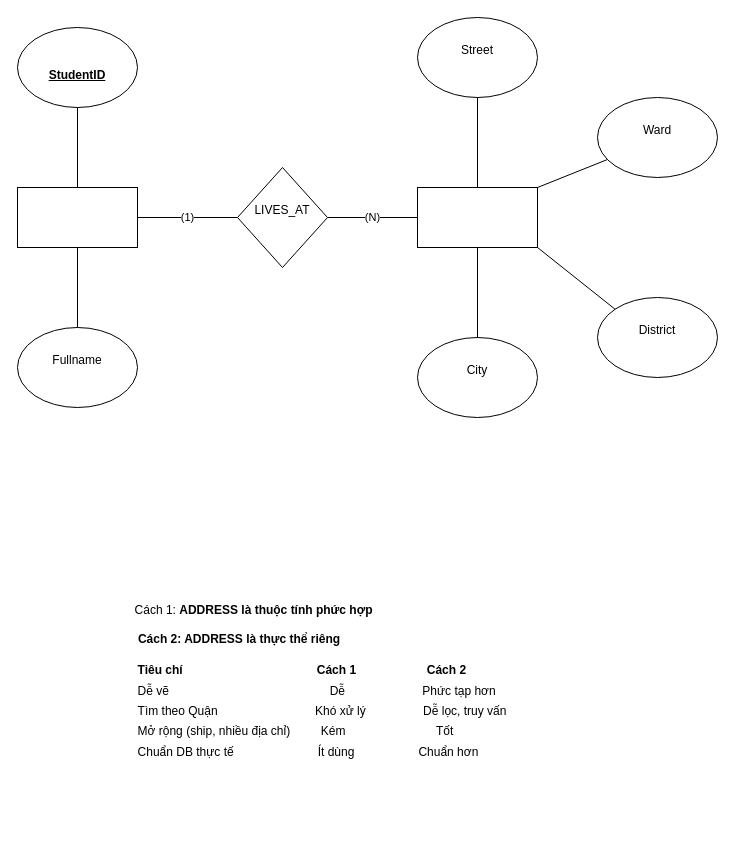
Some shapes in this 735 by 855 pixel diagram are drawn without their labels. Each missing label, with the centre of its shape:
ADDRESS: (477,217)
STUDENTS: (77,217)
